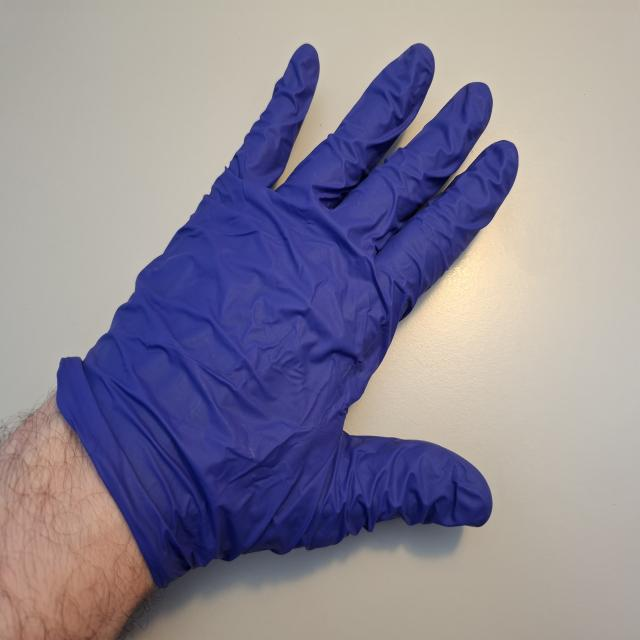glove_on: (57, 40, 521, 586)
